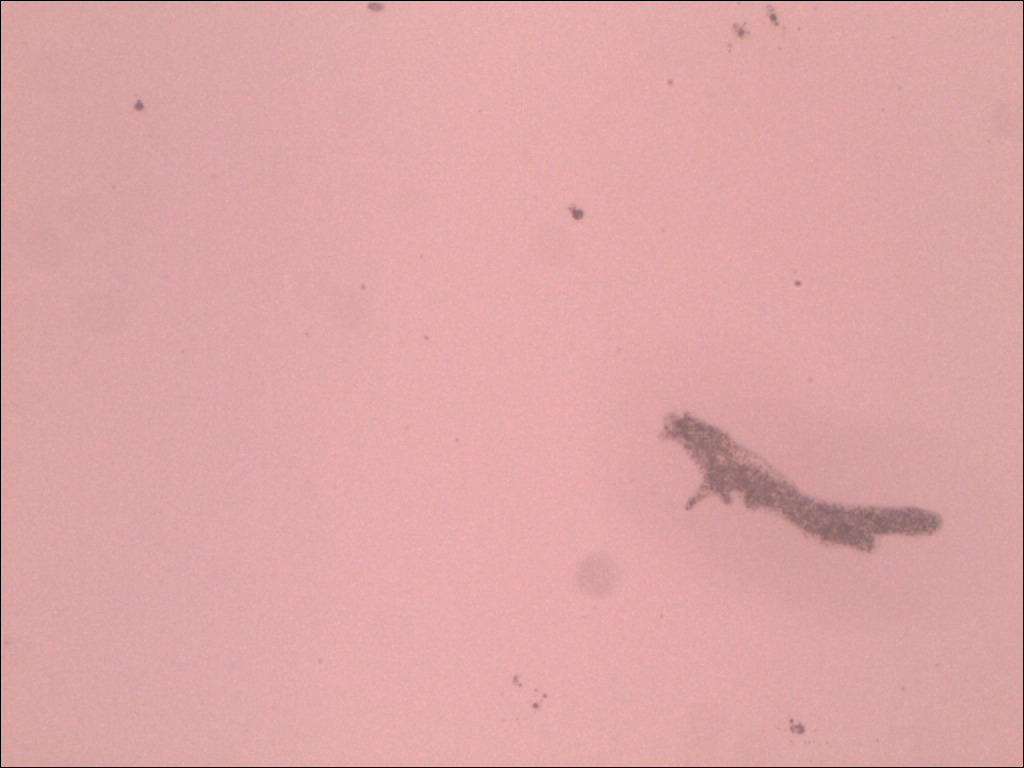amoeba: (653, 397, 953, 561)
